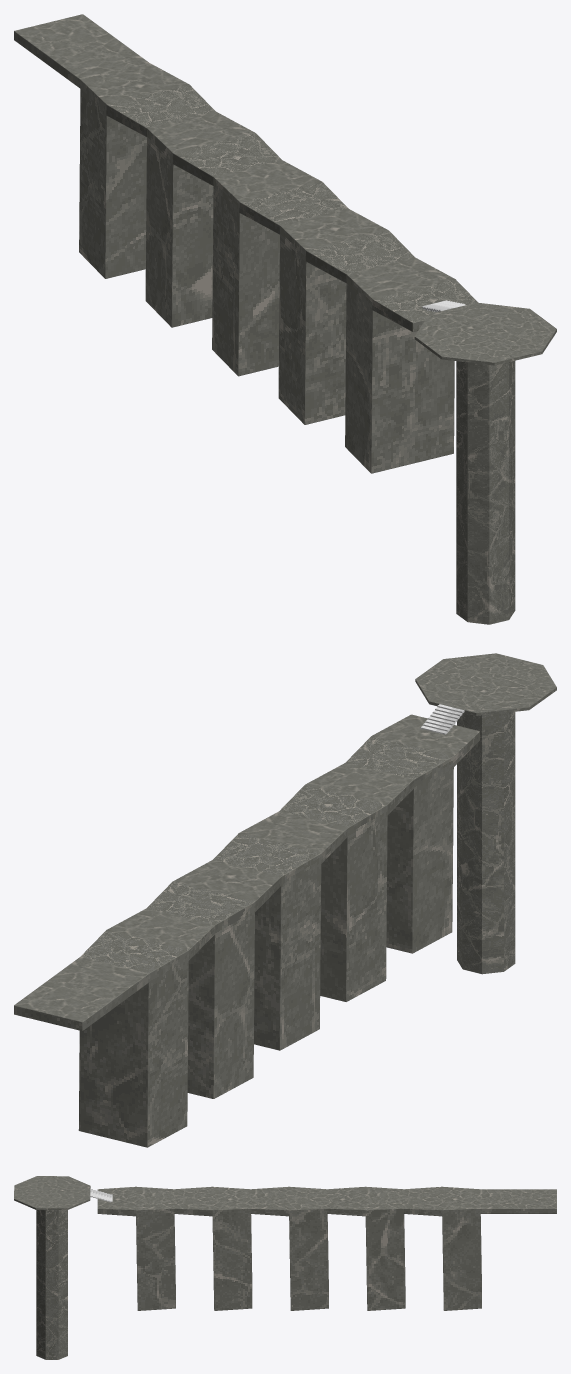
Rendered from bridge.glb.
3 renders of one model, top to bottom at view 1: azimuth 30°, elevation 25°; view 2: azimuth 150°, elevation 25°; view 3: azimuth 270°, elevation 25°, orthographic. The views are drawn at different scales.
Parts seen in each view (by area): view 1: Cube.002, Circle; view 2: Cube.002, Circle, stairs.001; view 3: Cube.002, Circle.
Boxes of the visible parts, <box> form: Cube.002: <box>14,14,477,473</box>; Circle: <box>414,302,556,624</box>; Cube.002: <box>14,714,479,1147</box>; Circle: <box>415,653,556,974</box>; stairs.001: <box>420,704,464,734</box>; Cube.002: <box>97,1186,556,1310</box>; Circle: <box>14,1176,90,1359</box>.
Size of the model in its own units: 25.4 by 58.96 by 180.
Materials: 2 (2 with a texture image).
